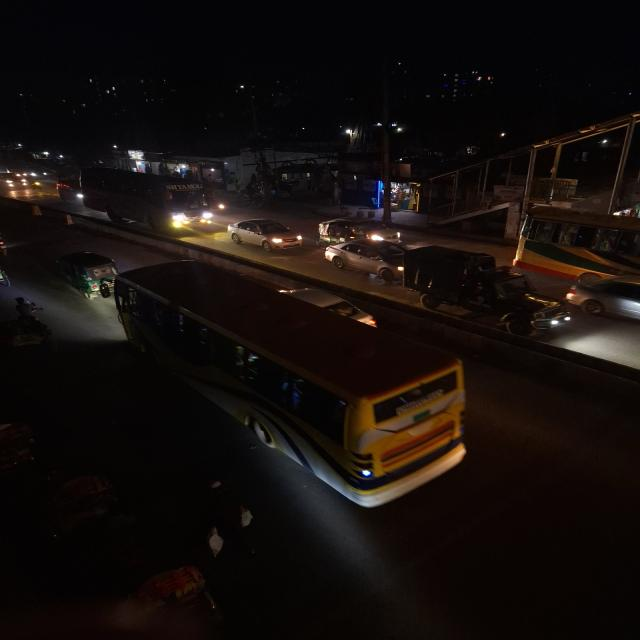bus: (108, 265, 484, 512), (512, 207, 640, 285), (78, 168, 217, 230)
car: (413, 234, 556, 341), (277, 284, 380, 331), (564, 269, 640, 329), (322, 238, 408, 278), (224, 215, 305, 252), (319, 216, 406, 244)
cng: (53, 249, 119, 299), (314, 216, 378, 244)
rickshaw: (20, 466, 127, 544), (0, 299, 60, 356)
